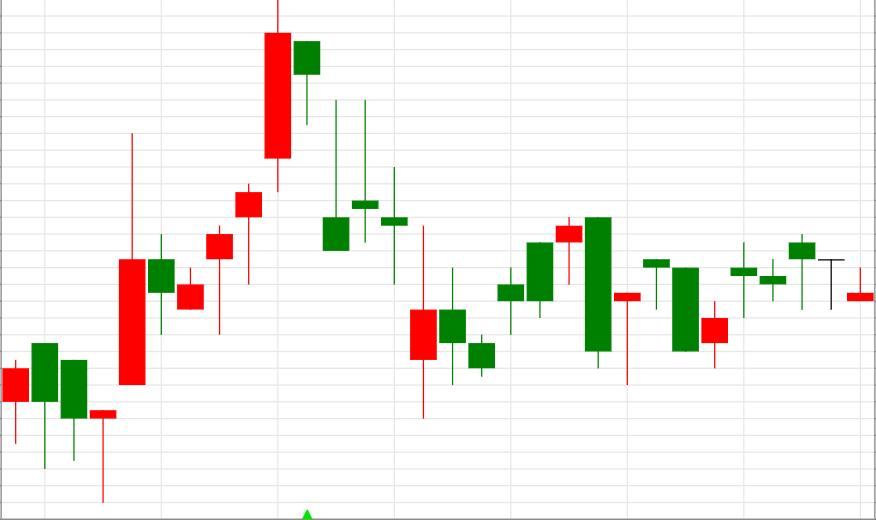bearish_engulfing_fall: (468, 218, 612, 377)
